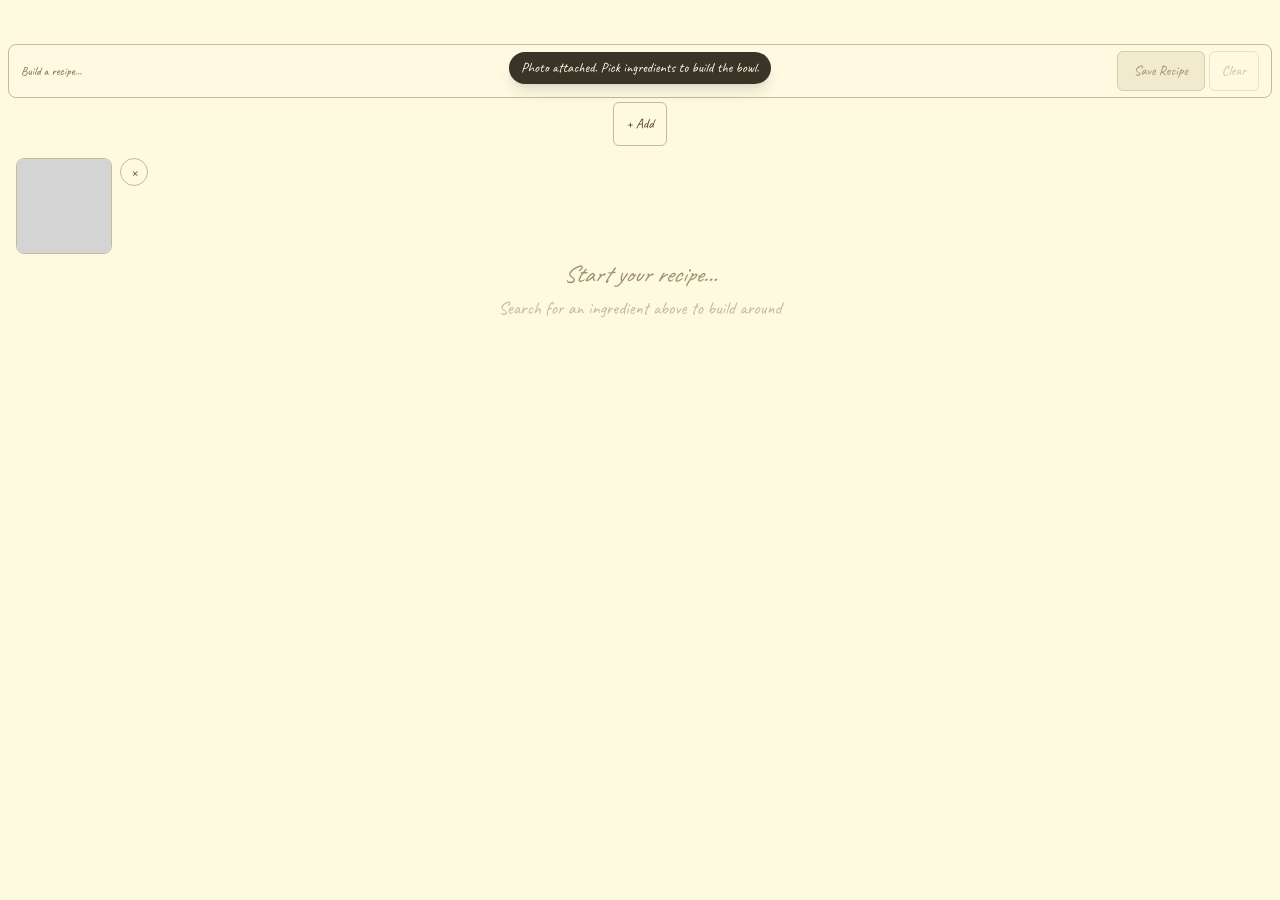
RecipeLabMobile — MAKE-PHOTO-PREVIEW (§5.3 image preview) › remove button revokes the object URL and removes the preview
This screenshot has width=1280, height=900.
Click the button with test id "recipe-photo-remove": (134, 172) left=120, top=158, right=148, bottom=186
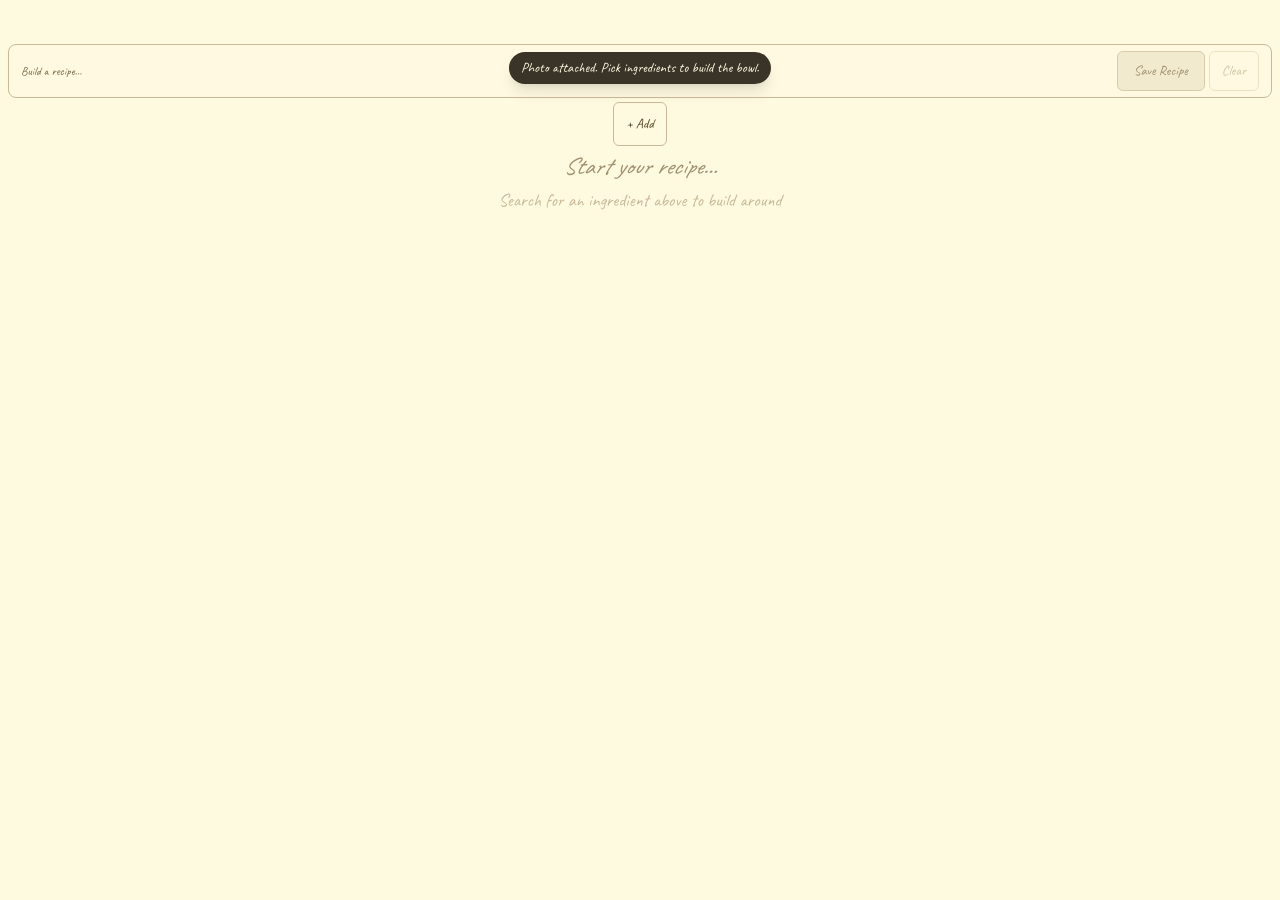
Now the picture with test id "recipe-photo-preview" is gone
